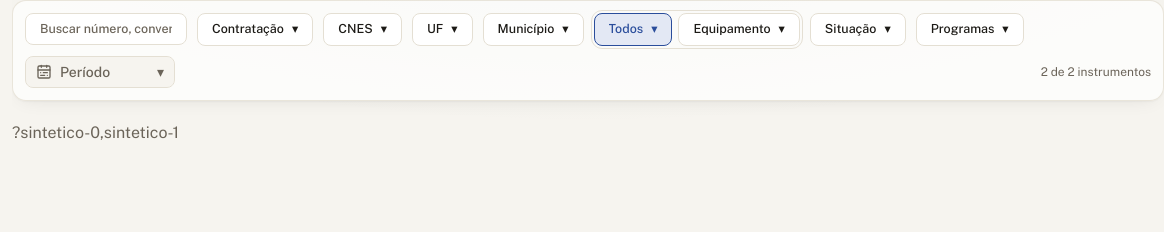
Filtros reais do monitoramento e URL › combina filtros e apresenta recorte vazio sem reutilizar resultados anteriores
Click the button "UF ▾" at (442, 29), box [412,13,473,46]
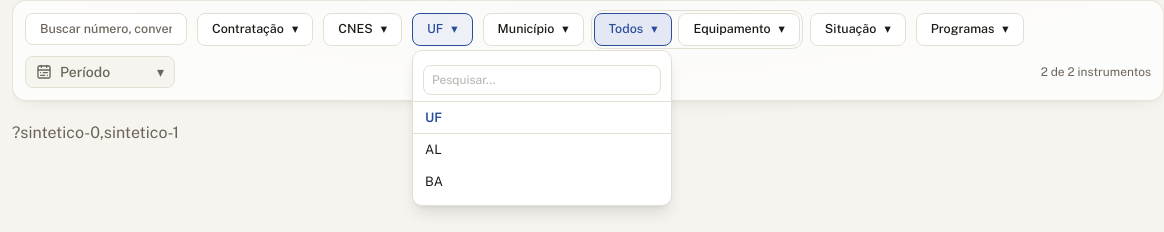
Click the option "BA" at (542, 182), box [413,166,671,197]
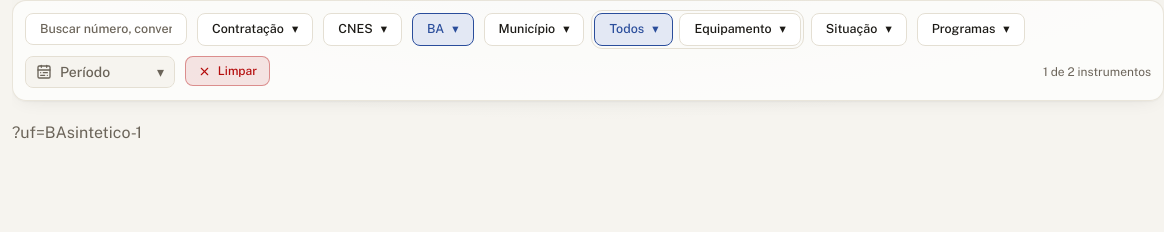
Click the button "Contratação ▾" at (255, 29), box [197,13,313,46]
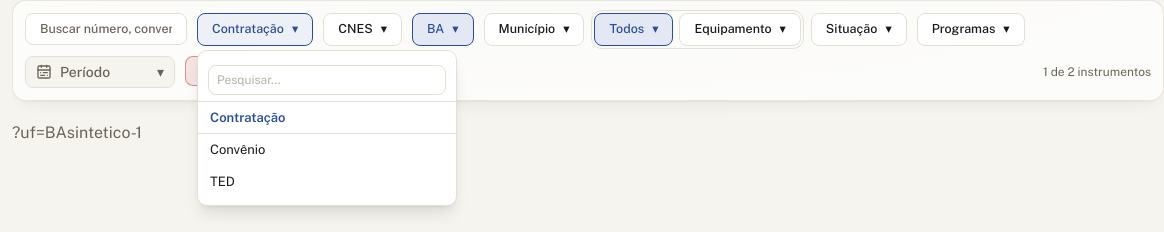
Click the option "Convênio" at (327, 150), box [198,134,456,166]
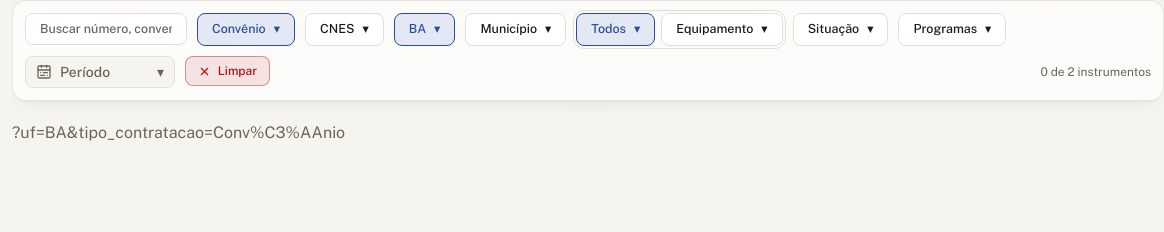
Expected: the text "0 de 2 instrumentos" is shown, [1041,65,1151,79]
